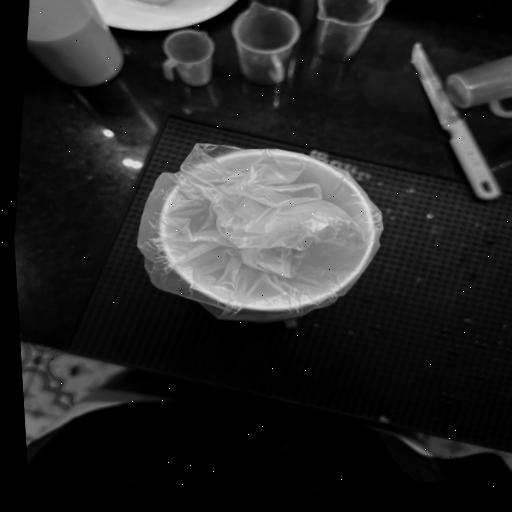Ly_giay: (138, 144, 383, 323)
